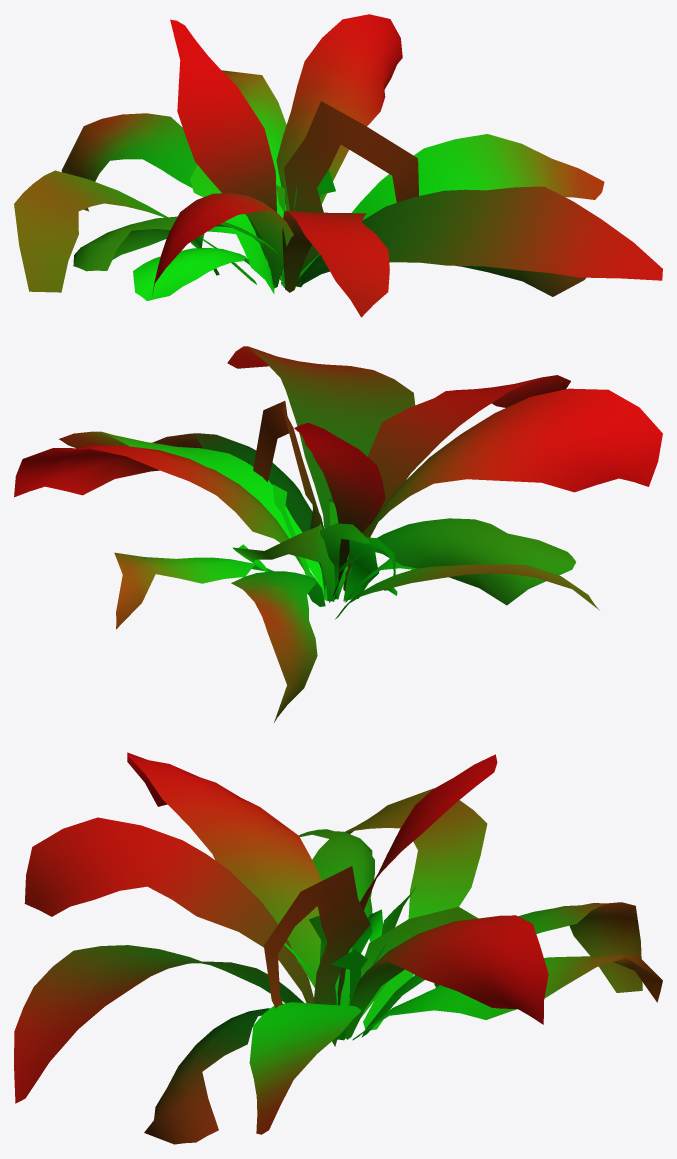
File: Fern_LOD0_Var2_rmAsg.fbx
The picture shows the model from 3 angles, top to bottom: view 1: azimuth 30°, elevation 25°; view 2: azimuth 150°, elevation 25°; view 3: azimuth 270°, elevation 25°; orthographic projection. The views are drawn at different scales.
Parts seen in each view (by area): view 1: _8203_Var2_LOD0; view 2: _8203_Var2_LOD0; view 3: _8203_Var2_LOD0.
Part boxes in pixels (x1=…): _8203_Var2_LOD0: x1=14, y1=14, x2=662, y2=317; _8203_Var2_LOD0: x1=14, y1=346, x2=662, y2=722; _8203_Var2_LOD0: x1=14, y1=752, x2=662, y2=1144.
Size of the model in its own units: 179 by 72.92 by 165.
